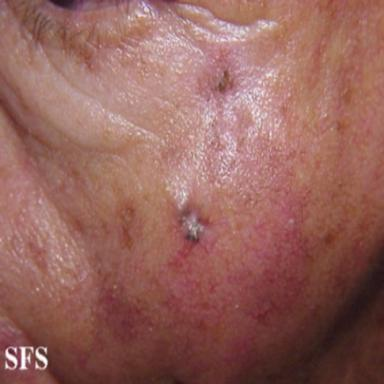basal-cell-carcinoma: (171, 188, 216, 262), (207, 52, 245, 105)
